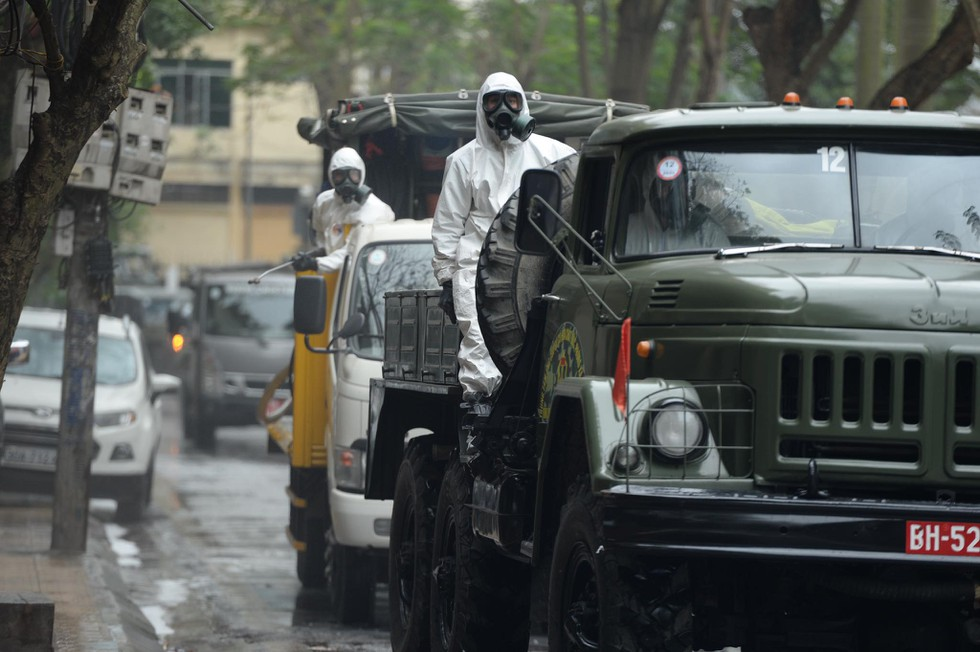plate: (900, 516, 980, 565)
